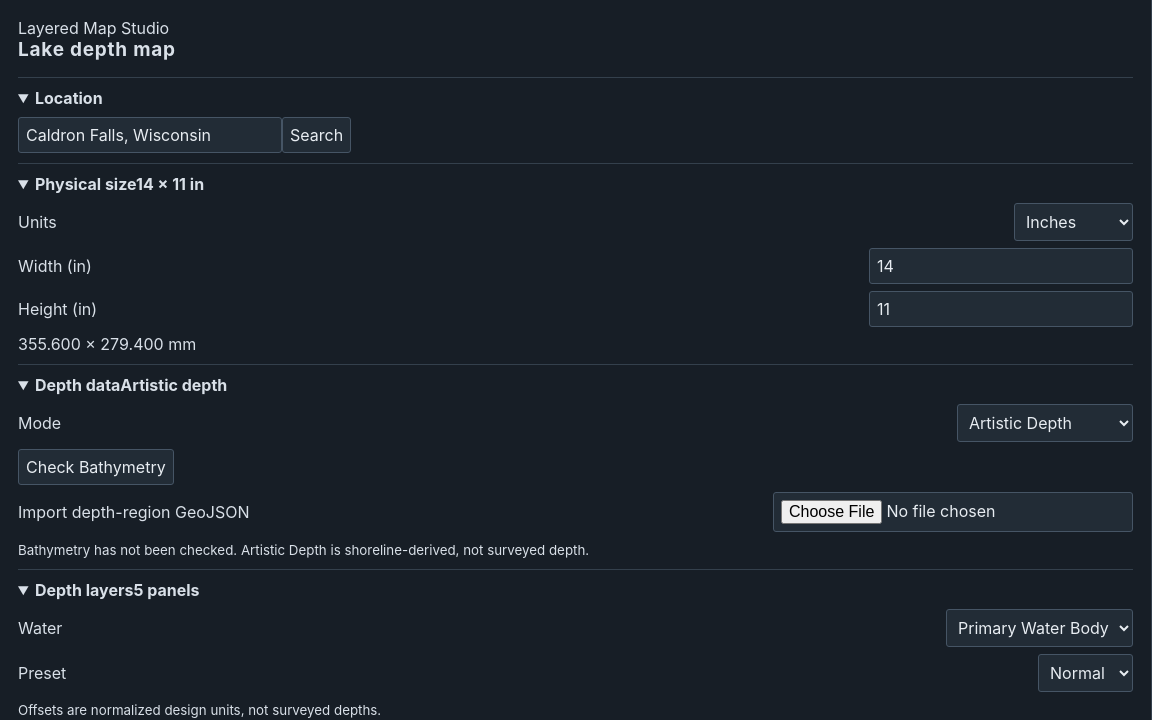
Test: Controls: depth layers and roads › switching to Procedural Terrain reveals its own control panel
Expected: the field labelled "Bottom profile" is not shown
Select "Procedural Terrain" in the dropdown labelled "Mode" at (1045, 423), box [957,404,1133,442]
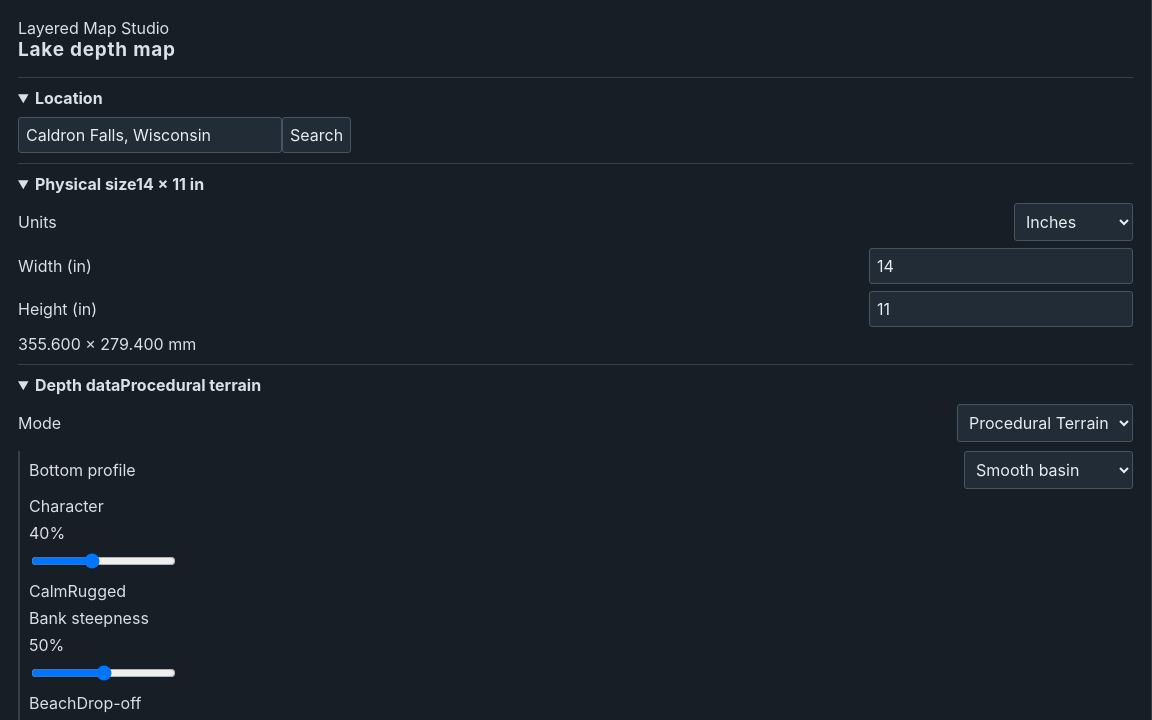
Result: the dropdown labelled "Bottom profile" is shown at [964,451,1133,489]
